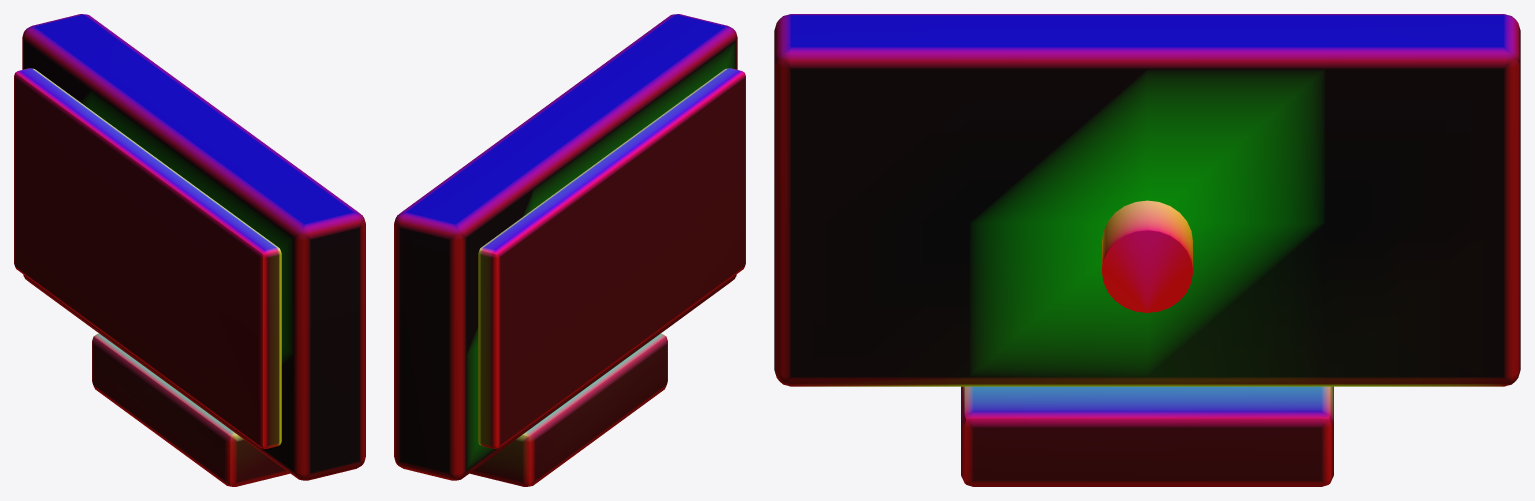
File: prop_saw_jaw.fbx
The picture shows the model from 3 angles, left to right: view 1: azimuth 30°, elevation 25°; view 2: azimuth 150°, elevation 25°; view 3: azimuth 270°, elevation 25°; orthographic projection. The views are drawn at different scales.
Visible parts, largest first — view 1: prop_saw_jaw; view 2: prop_saw_jaw; view 3: prop_saw_jaw.
Boxes of the visible parts, x1,y1,x2,y2 form: prop_saw_jaw: [14, 14, 365, 486]; prop_saw_jaw: [394, 14, 745, 486]; prop_saw_jaw: [774, 14, 1520, 486].
Size of the model in its own units: 0.051 by 0.11 by 0.18.
